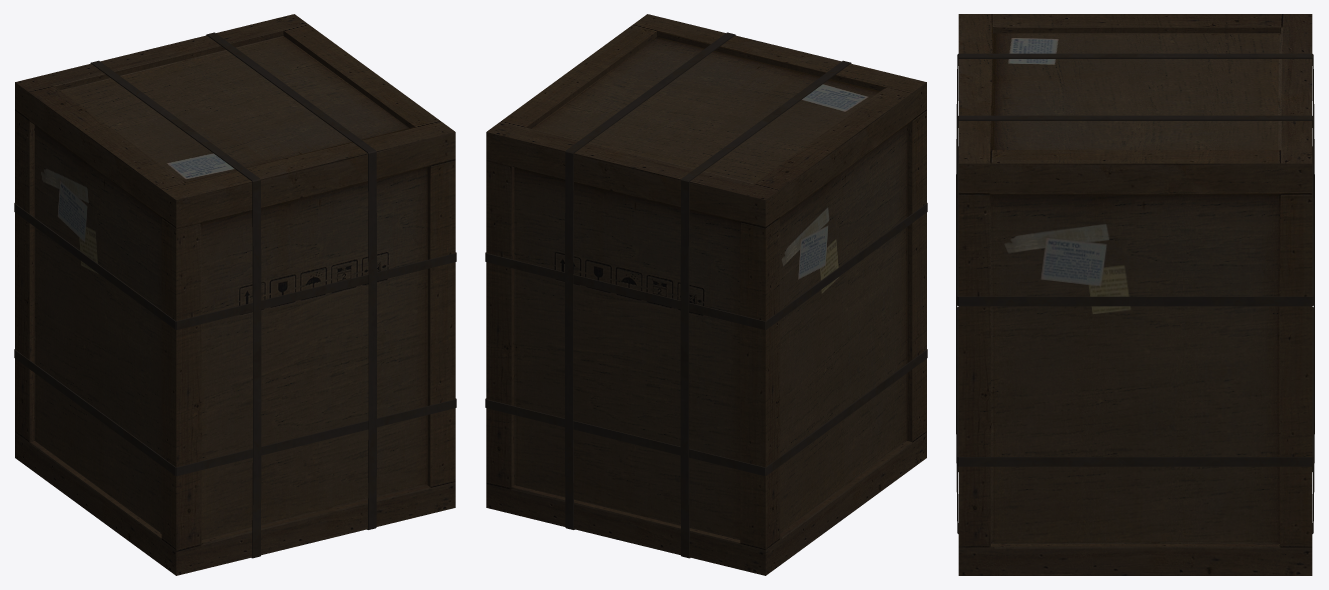
The model's file is wooden_crate_hx_1_1.obj.
3 views of the same model, side by side, from view 1: azimuth 30°, elevation 25°; view 2: azimuth 150°, elevation 25°; view 3: azimuth 270°, elevation 25° (orthographic). The views are drawn at different scales.
Visible parts, largest first — view 1: wooden_crate_hx_1_1; view 2: wooden_crate_hx_1_1; view 3: wooden_crate_hx_1_1.
Part boxes in pixels (x1=…): wooden_crate_hx_1_1: x1=14, y1=14, x2=456, y2=575; wooden_crate_hx_1_1: x1=485, y1=14, x2=927, y2=575; wooden_crate_hx_1_1: x1=956, y1=14, x2=1314, y2=575.
Bounding box in the file's own units: 1.41 × 1.81 × 1.42.
